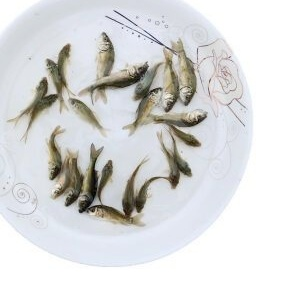fry: (75, 149, 100, 213), (175, 47, 199, 110), (88, 29, 120, 76), (66, 92, 101, 132), (159, 51, 179, 117), (88, 204, 134, 232), (99, 61, 150, 86), (39, 128, 64, 179), (136, 174, 167, 215), (136, 86, 160, 134), (23, 75, 48, 120), (163, 106, 208, 127), (171, 143, 195, 182), (96, 156, 117, 200), (54, 43, 78, 81), (66, 167, 87, 210), (121, 166, 137, 222), (42, 56, 65, 94), (177, 125, 207, 154), (22, 93, 61, 115), (133, 62, 152, 103), (163, 153, 181, 196), (53, 164, 72, 197)
